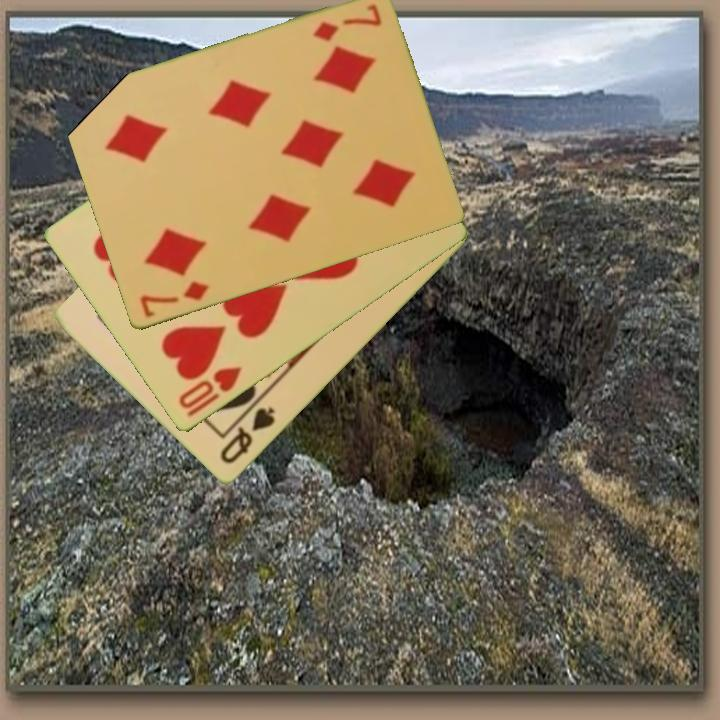10h: (174, 363, 245, 421)
7d: (309, 1, 384, 45), (136, 278, 211, 321)
Qs: (216, 404, 278, 468)
